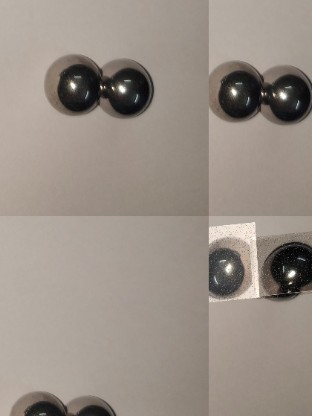ironball: (250, 234, 311, 302), (39, 47, 97, 118), (94, 52, 155, 118), (208, 224, 256, 304), (209, 59, 265, 122), (262, 58, 310, 127), (5, 386, 64, 416), (66, 388, 117, 414)
